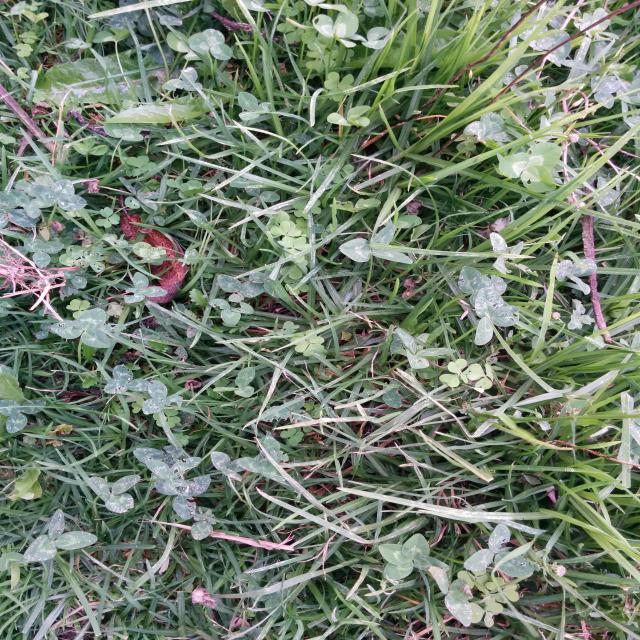Four Leaf Clover: (378, 533, 450, 580)
